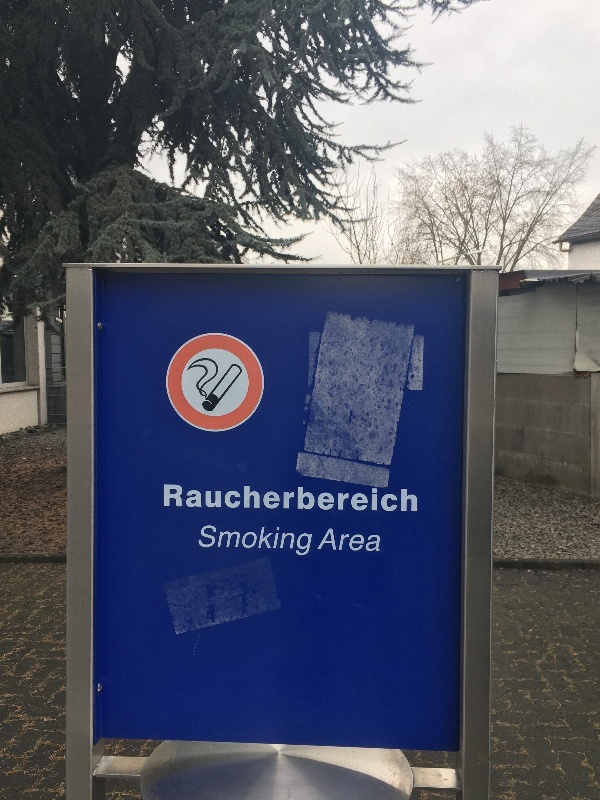text: (209, 524, 224, 558), (225, 524, 240, 558), (241, 524, 256, 558), (257, 524, 272, 558), (273, 524, 288, 558), (289, 524, 304, 558), (177, 483, 192, 515), (193, 483, 208, 515), (209, 483, 224, 515), (225, 483, 240, 515), (241, 483, 256, 515), (257, 483, 272, 515), (273, 483, 288, 515), (289, 483, 304, 515), (305, 483, 320, 515), (321, 483, 336, 515), (337, 483, 352, 515), (353, 483, 368, 515), (369, 483, 384, 515), (385, 483, 400, 515), (401, 483, 416, 515), (337, 526, 352, 556), (353, 526, 368, 556), (369, 526, 384, 556), (163, 483, 176, 515), (305, 524, 315, 558), (201, 524, 208, 558), (330, 526, 336, 556), (417, 483, 419, 515)
